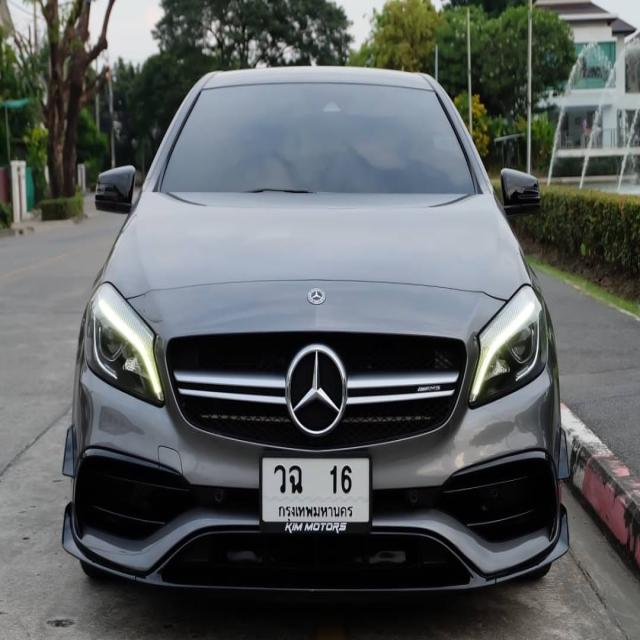license_plate: (256, 447, 374, 532)
